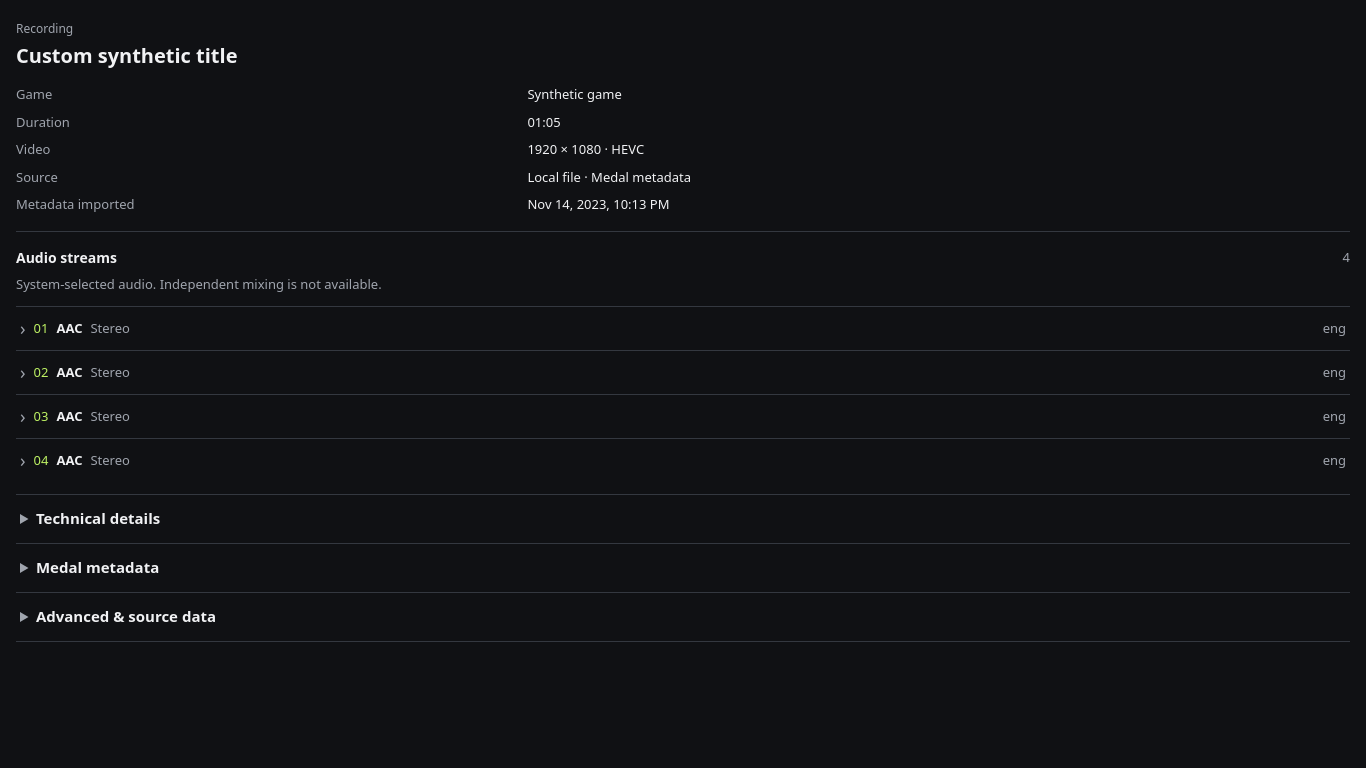
Test: labels retained timestamps and nonfatal source warnings inside advanced details
The width and height of the screenshot is (1366, 768).
Click the heading "Advanced & source data" at (126, 616), box [36,606,216,626]
(page scrolled)
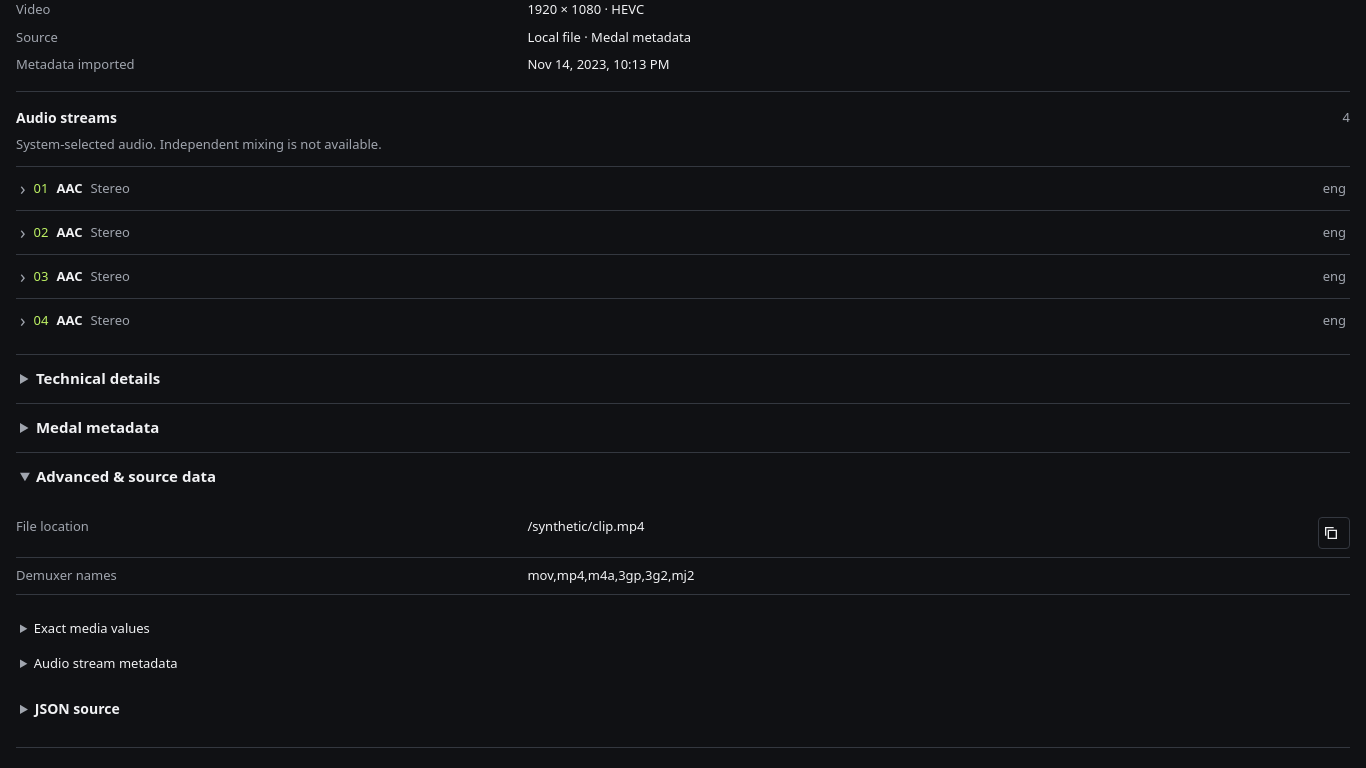
Click the heading "JSON source" at (77, 708), box [35,698,120,718]
(page scrolled)
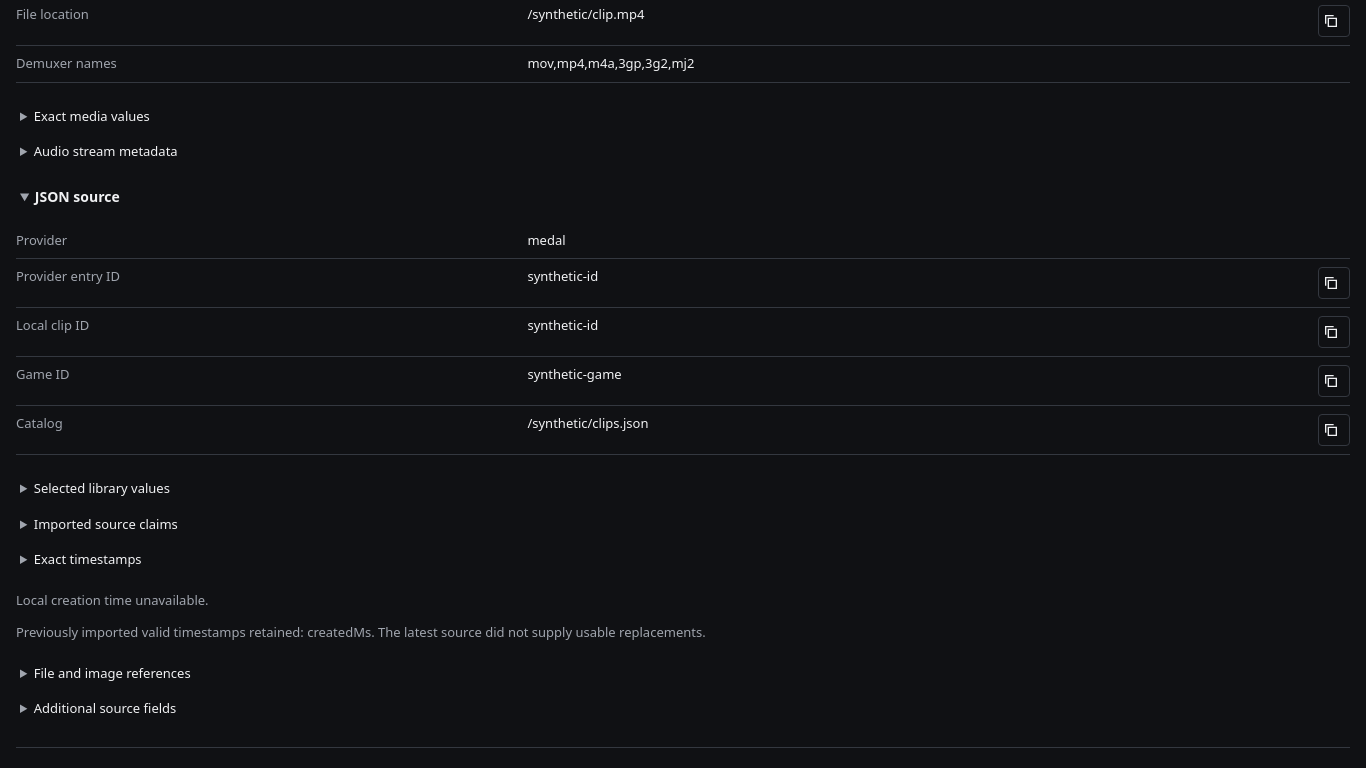
Now the text "Local creation time unavailable." is shown, box [16,590,209,608]
Now the text "JSON source" shows "Previously imported valid timestamps retained: createdMs"
